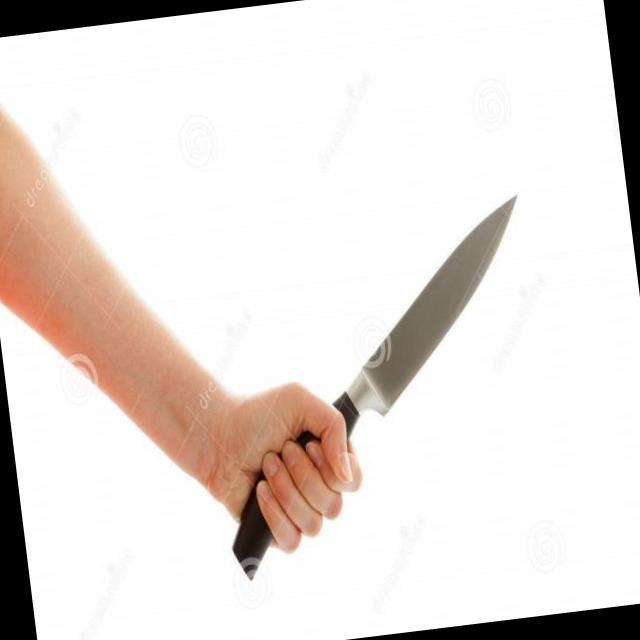Knife: (240, 185, 562, 526)
